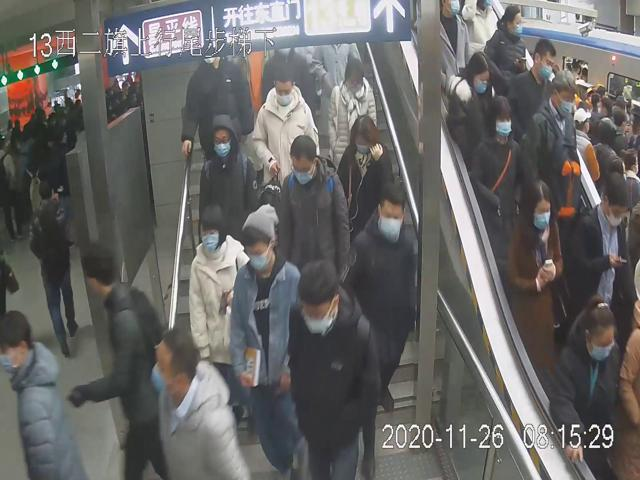person: (231, 203, 319, 480), (288, 256, 384, 480), (347, 182, 416, 416), (276, 133, 353, 303), (188, 206, 257, 395), (508, 178, 561, 400), (567, 172, 630, 353), (251, 61, 322, 214), (469, 91, 522, 262), (333, 117, 396, 254), (198, 114, 259, 252), (327, 48, 379, 181), (444, 48, 495, 164)
